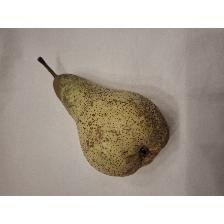Birne: (31, 50, 173, 179)
